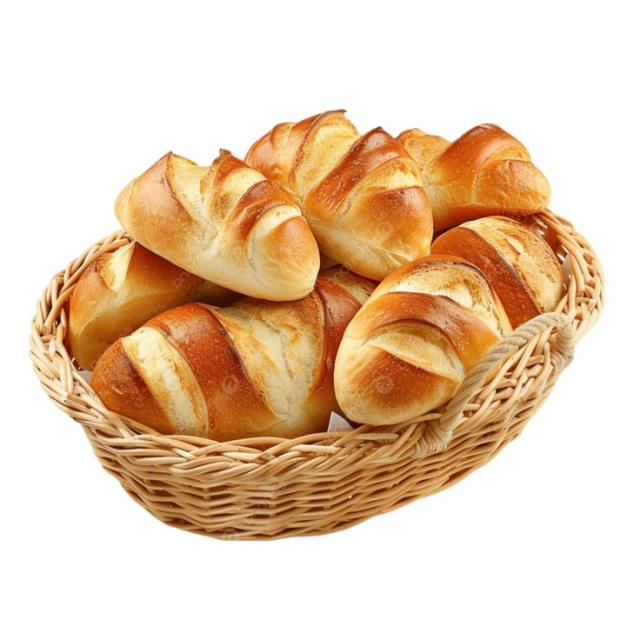bread: (92, 268, 374, 439), (246, 111, 433, 280), (115, 152, 319, 300), (335, 254, 510, 424), (68, 242, 239, 370), (398, 125, 550, 231), (434, 216, 563, 327)
